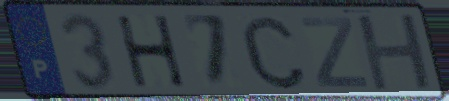3: (59, 8, 119, 94)
7: (178, 12, 232, 92)
C: (237, 12, 311, 92)
H: (353, 11, 438, 94), (113, 13, 190, 90)
Z: (297, 15, 371, 90)
